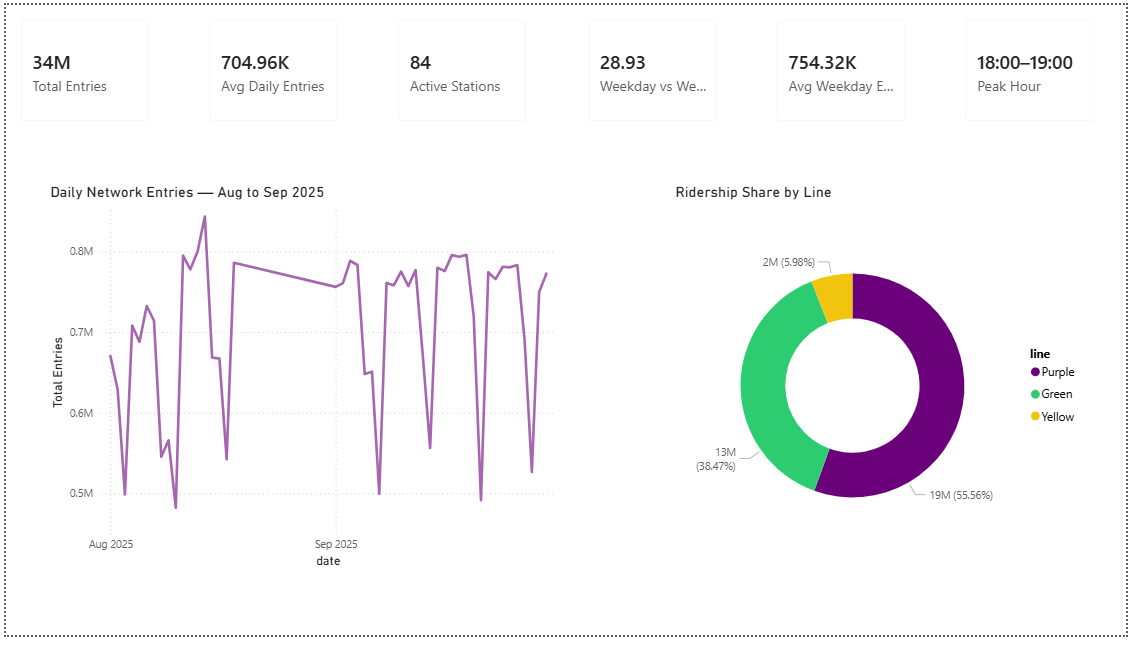

This screenshot's page, from the dashboard's own definition file:
{"tool":"powerbi","page":{"name":"Executive Summary","canvas":[1280,720],"ordinal":0},"visuals":[{"type":"cardVisual","fields":{"Data":["powerbi_ridership.Total Entries"]},"box":[0,0,180,150],"z":0},{"type":"cardVisual","fields":{"Data":["powerbi_ridership.Avg Daily Entries"]},"box":[216,0,180,150],"z":1000},{"type":"cardVisual","fields":{"Data":["powerbi_ridership.Active Stations"]},"box":[432,0,180,150],"z":2000},{"type":"cardVisual","fields":{"Data":["powerbi_ridership.Weekday vs Weekend %"]},"box":[648,0,180,150],"z":3000},{"type":"cardVisual","fields":{"Data":["powerbi_ridership.Peak Hour"]},"box":[1080,0,180,150],"z":4000},{"type":"cardVisual","fields":{"Data":["powerbi_ridership.Avg Weekday Entries"]},"box":[864,0,180,150],"z":5000},{"type":"lineChart","title":"Daily Network Entries — Aug to Sep 2025","fields":{"Y":["powerbi_ridership.Total Entries"],"Category":["powerbi_ridership.date"]},"box":[46,202.8,602.1,445.3],"z":6000},{"type":"donutChart","title":"Ridership Share by Line","fields":{"Y":["powerbi_ridership.Total Entries"],"Category":["powerbi_ridership.line"]},"box":[760.1,202.8,475.2,445.3],"z":7000}]}

Visuals, with their boxes in screenshot pixels (x1, y1, x2, y2), scaled from the page's 1280x720 canvas onto the 1135x647 screenshot:
cardVisual - powerbi_ridership.Total Entries: locate(0, 0, 160, 135)
cardVisual - powerbi_ridership.Avg Daily Entries: locate(192, 0, 351, 135)
cardVisual - powerbi_ridership.Active Stations: locate(383, 0, 543, 135)
cardVisual - powerbi_ridership.Weekday vs Weekend %: locate(575, 0, 734, 135)
cardVisual - powerbi_ridership.Peak Hour: locate(958, 0, 1117, 135)
cardVisual - powerbi_ridership.Avg Weekday Entries: locate(766, 0, 926, 135)
"Daily Network Entries — Aug to Sep 2025" lineChart: locate(41, 182, 575, 582)
"Ridership Share by Line" donutChart: locate(674, 182, 1095, 582)
